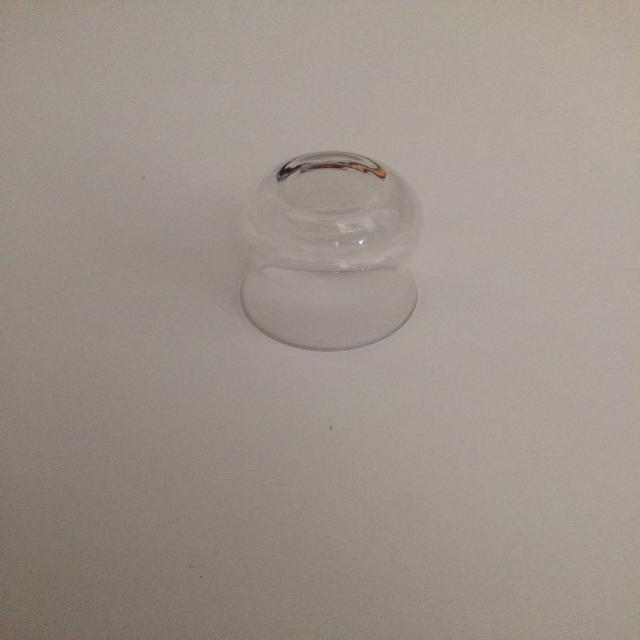glass: (238, 150, 426, 353)
